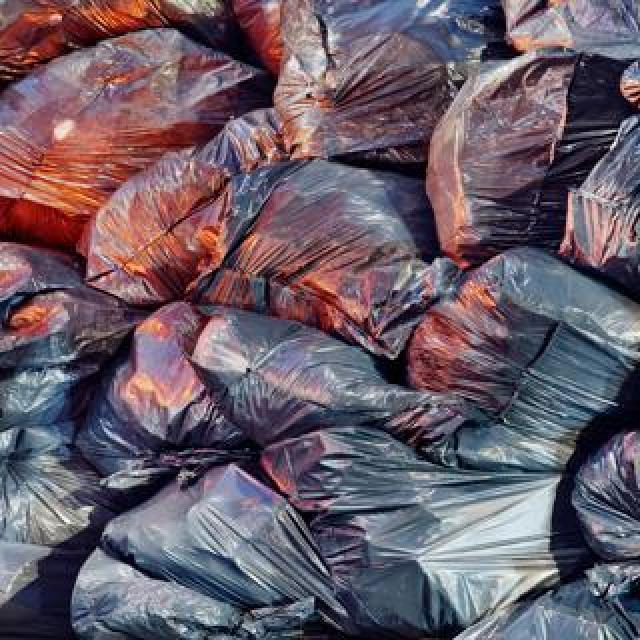Trashbag: (260, 416, 587, 635), (418, 253, 636, 482), (430, 42, 622, 270), (77, 469, 326, 640), (187, 296, 449, 444), (3, 420, 119, 545)
